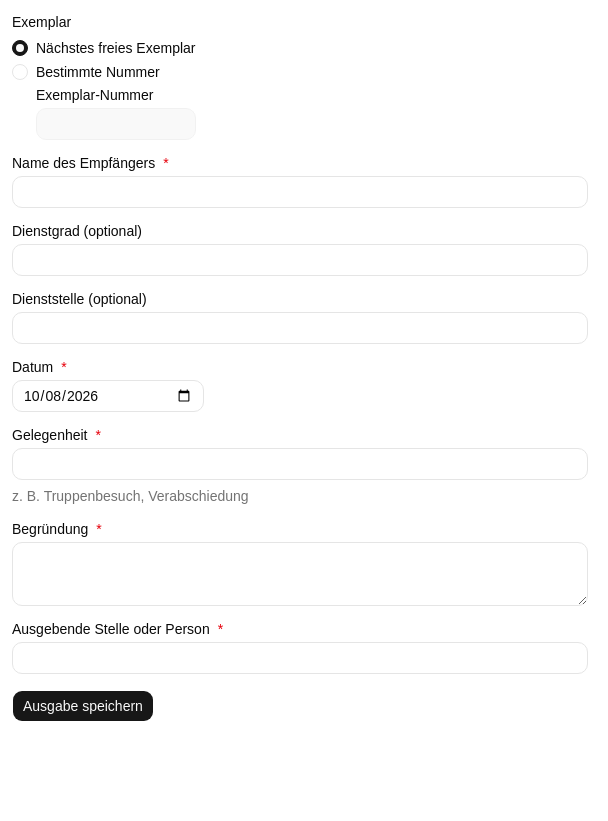
Scenario: clientseitige Prüfung › zeigt alle Fehler gleichzeitig mit den Texten aus AK-7
Clear the date field labelled "Datum *". click: (108, 396)
box: [12,380,204,412]
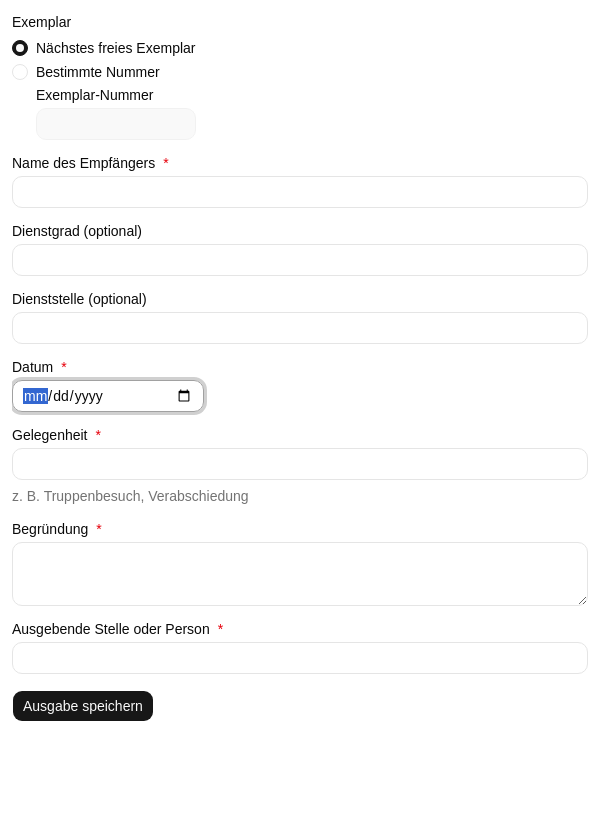
Click the button "Ausgabe speichern". click: (83, 706)
box: [12,690,154,722]
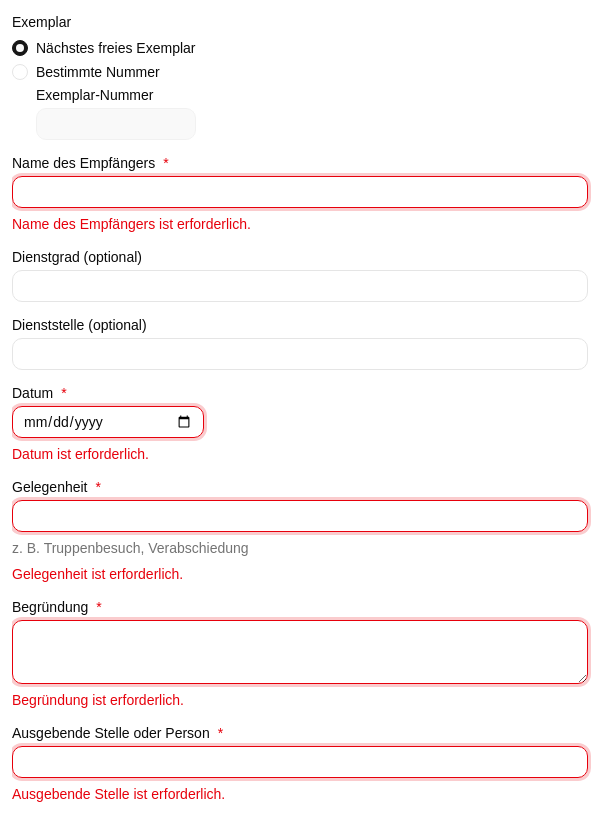
Expected: the text "Datum ist erforderlich." is shown, [12,446,149,462]
Expected: the text "Begründung ist erforderlich." is shown, [12,692,184,708]
Expected: the text "Ausgebende Stelle ist erforderlich." is shown, [12,786,225,802]
